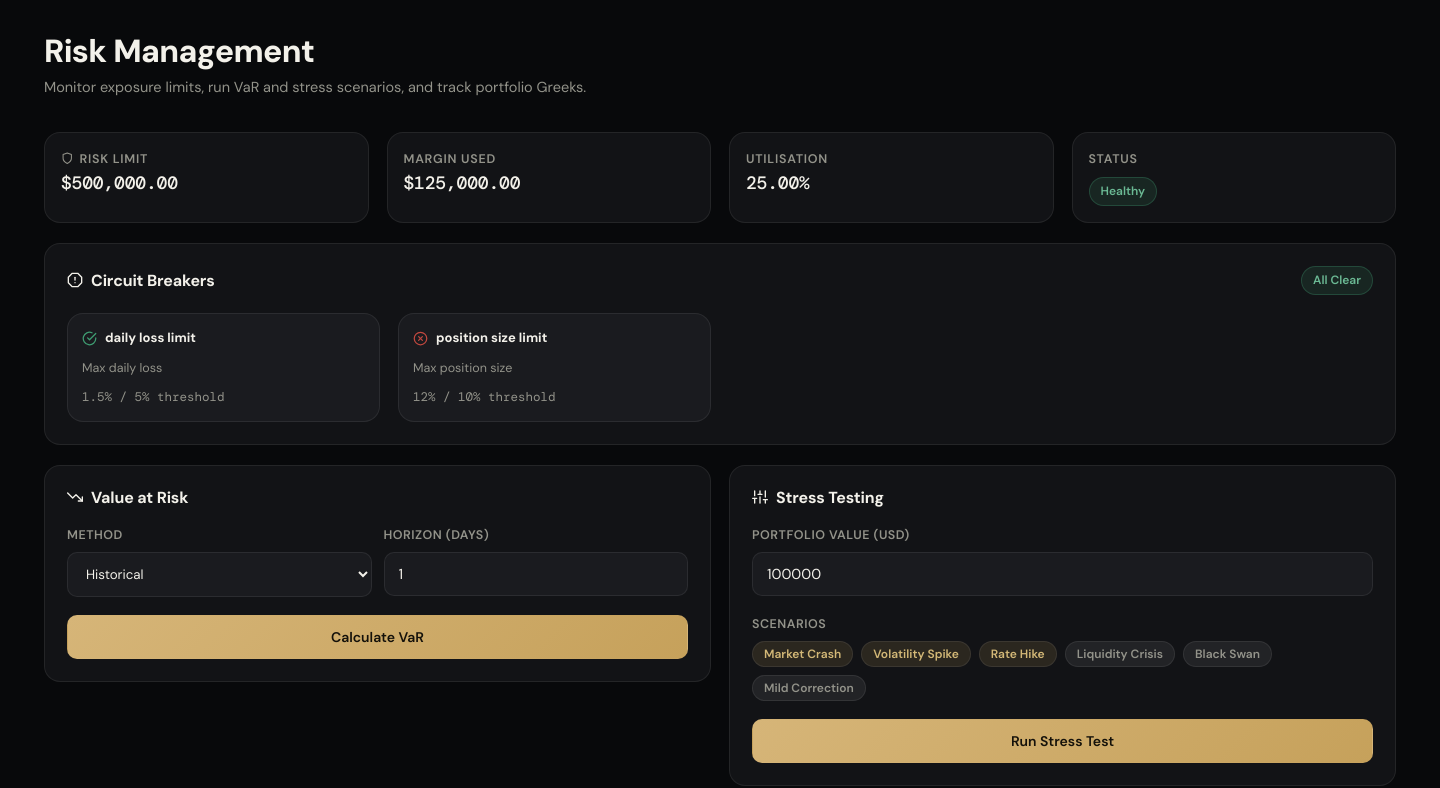
Test: Value at Risk › shows an error
Expected: the heading "Circuit Breakers" is shown, [67,271,215,290]
Click the button "Calculate VaR" at [378, 637], box [67,615,688,659]
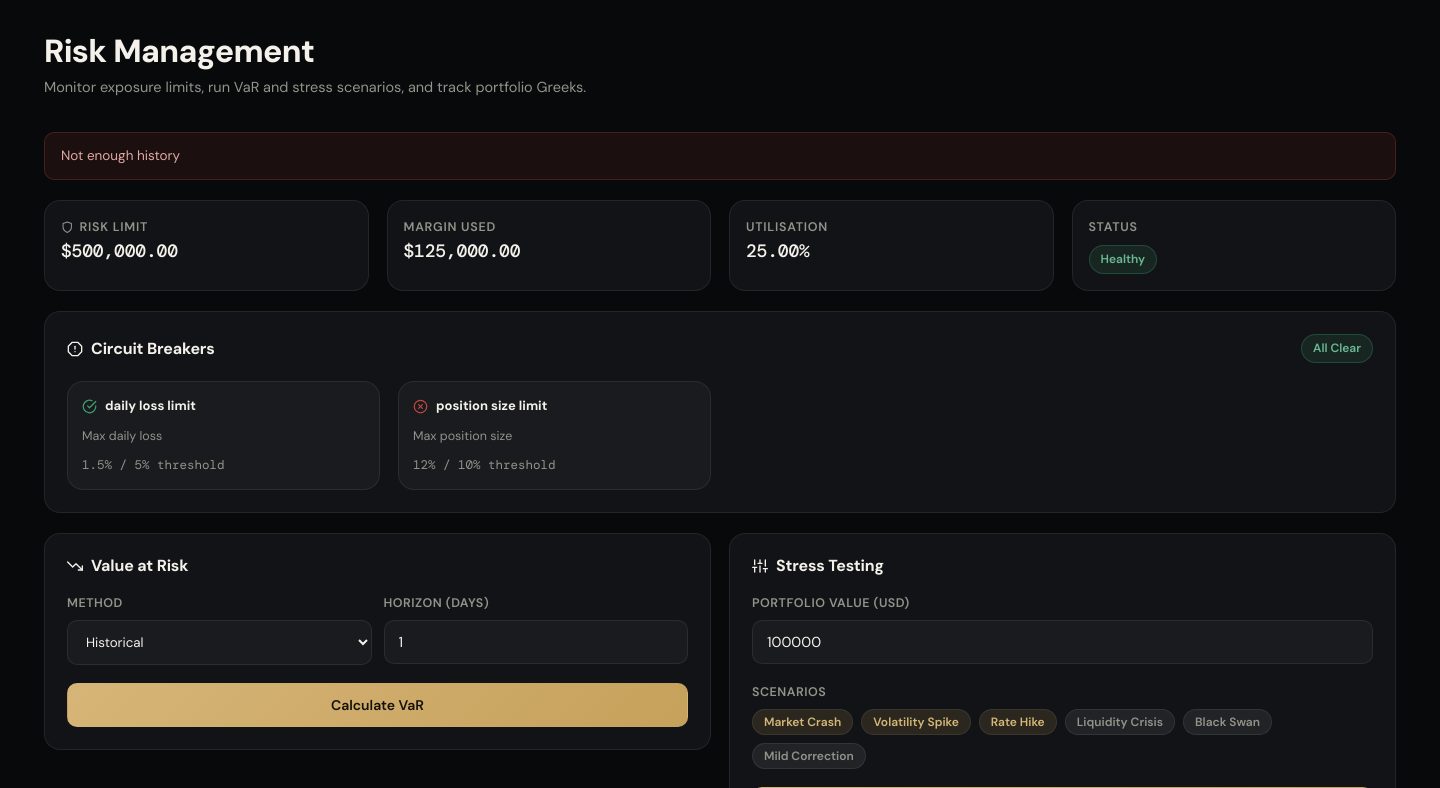
Expected: the text "Not enough history" is shown, [44,132,1396,180]
